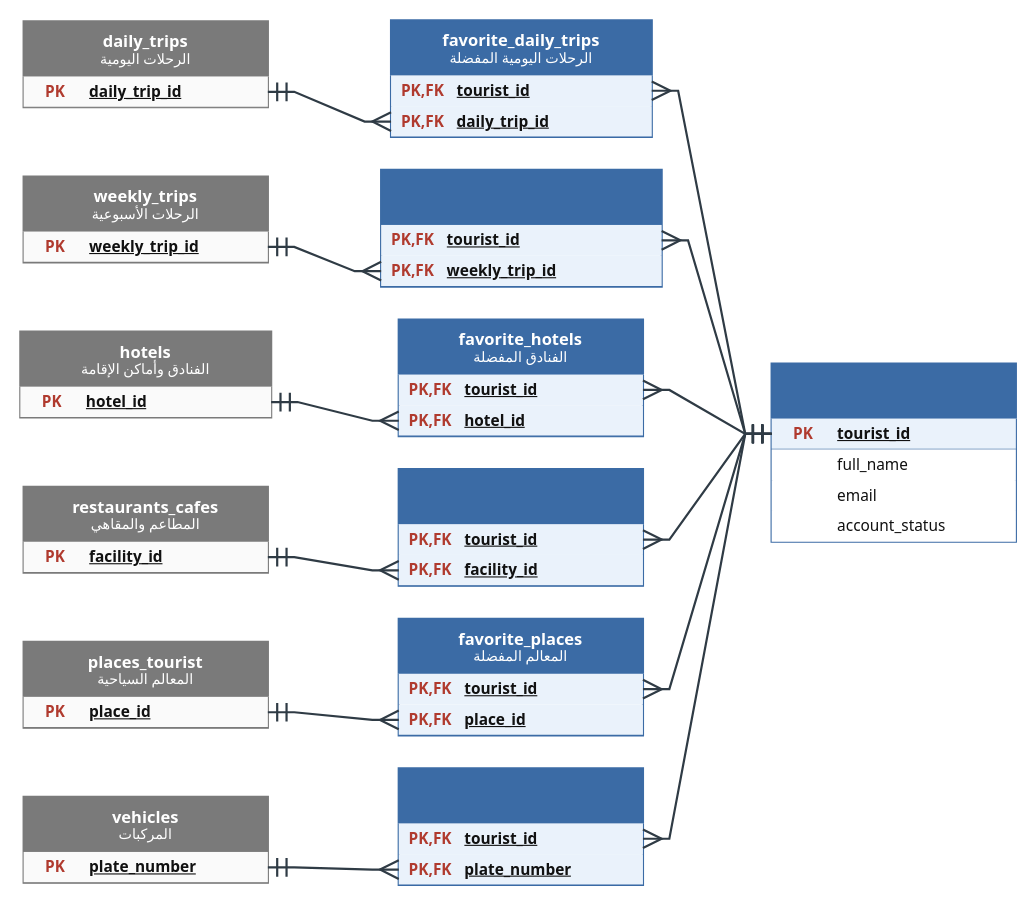
Some shapes in this 1035 by 908 pixel diagram are drawn without their labels. Each missing label, with the box of its shape:
favorite_restaurants المطاعم المفضلة: (397, 468, 644, 586)
favorite_vehicles المركبات المفضلة: (397, 767, 644, 886)
favorite_weekly_trips الرحلات الأسبوعية المفضلة: (380, 168, 662, 287)
tourists السياح: (770, 362, 1016, 542)
